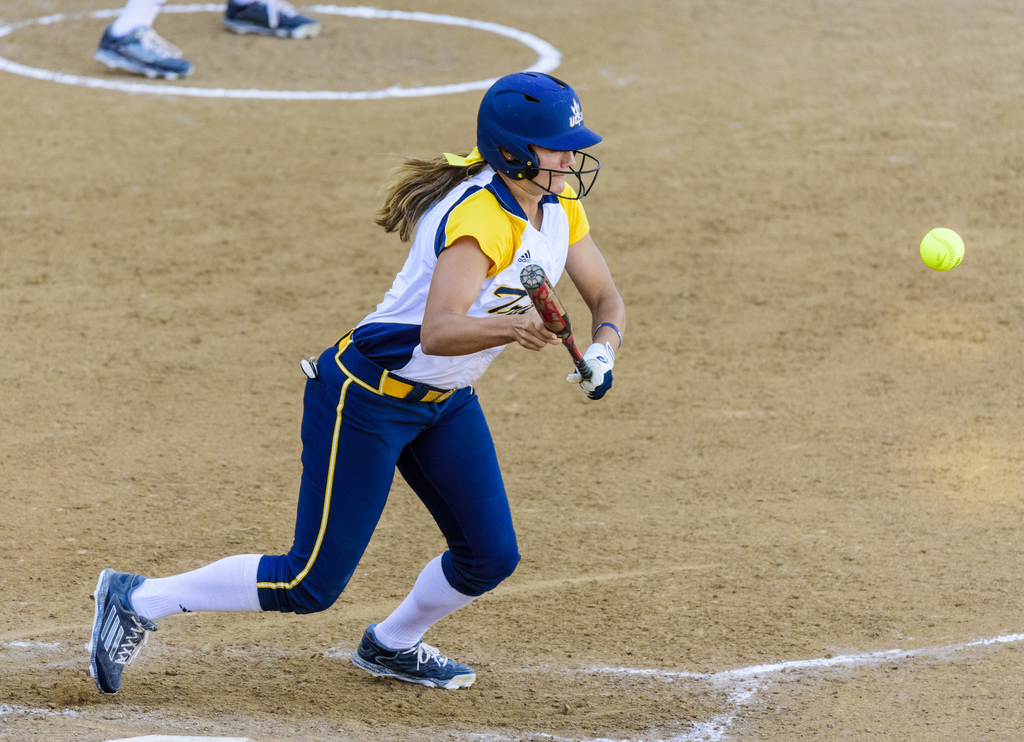face: (490, 96, 589, 197)
person: (81, 65, 629, 703), (88, 0, 316, 78)
